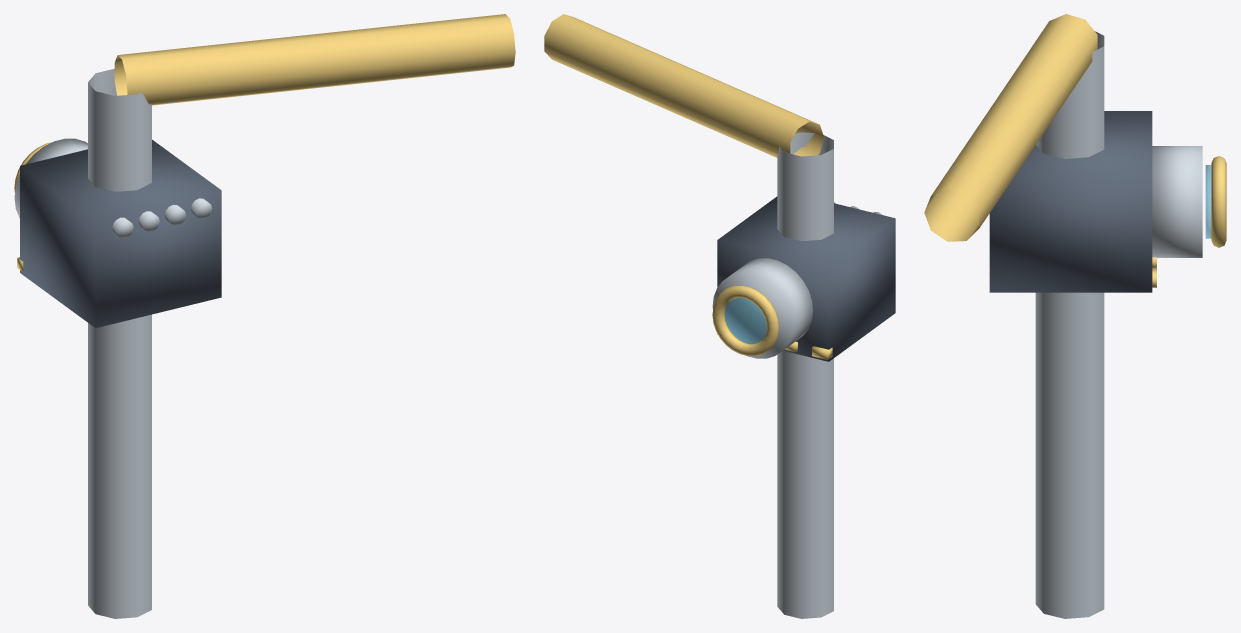
The model's file is L86_80_ExternalInspectionCameraGantry_Fitted.fbx.
The picture shows the model from 3 angles, left to right: view 1: azimuth 30°, elevation 25°; view 2: azimuth 150°, elevation 25°; view 3: azimuth 270°, elevation 25°; orthographic projection. The views are drawn at different scales.
Parts seen in each view (by area): view 1: L86_ExternalInspectionCameraGantry_ANIM_INSPECTION_CAMERA_GA (×3), L86_ExternalInspectionCameraGantry_Static__tintA1B2C2; view 2: L86_ExternalInspectionCameraGantry_ANIM_INSPECTION_CAMERA_GA (×4), L86_ExternalInspectionCameraGantry_Static__tintA1B2C2; view 3: L86_ExternalInspectionCameraGantry_ANIM_INSPECTION_CAMERA_GA (×4), L86_ExternalInspectionCameraGantry_Static__tintA1B2C2.
Part boxes in pixels (bbox=[...]): L86_ExternalInspectionCameraGantry_ANIM_INSPECTION_CAMERA_GA (×3): bbox=[14, 14, 515, 328]; L86_ExternalInspectionCameraGantry_Static__tintA1B2C2: bbox=[88, 68, 151, 618]; L86_ExternalInspectionCameraGantry_ANIM_INSPECTION_CAMERA_GA (×4): bbox=[544, 14, 895, 361]; L86_ExternalInspectionCameraGantry_Static__tintA1B2C2: bbox=[777, 132, 833, 618]; L86_ExternalInspectionCameraGantry_ANIM_INSPECTION_CAMERA_GA (×4): bbox=[924, 14, 1226, 292]; L86_ExternalInspectionCameraGantry_Static__tintA1B2C2: bbox=[1035, 31, 1104, 618].
Size of the model in its own units: 16.26 by 21.11 by 9.81.
